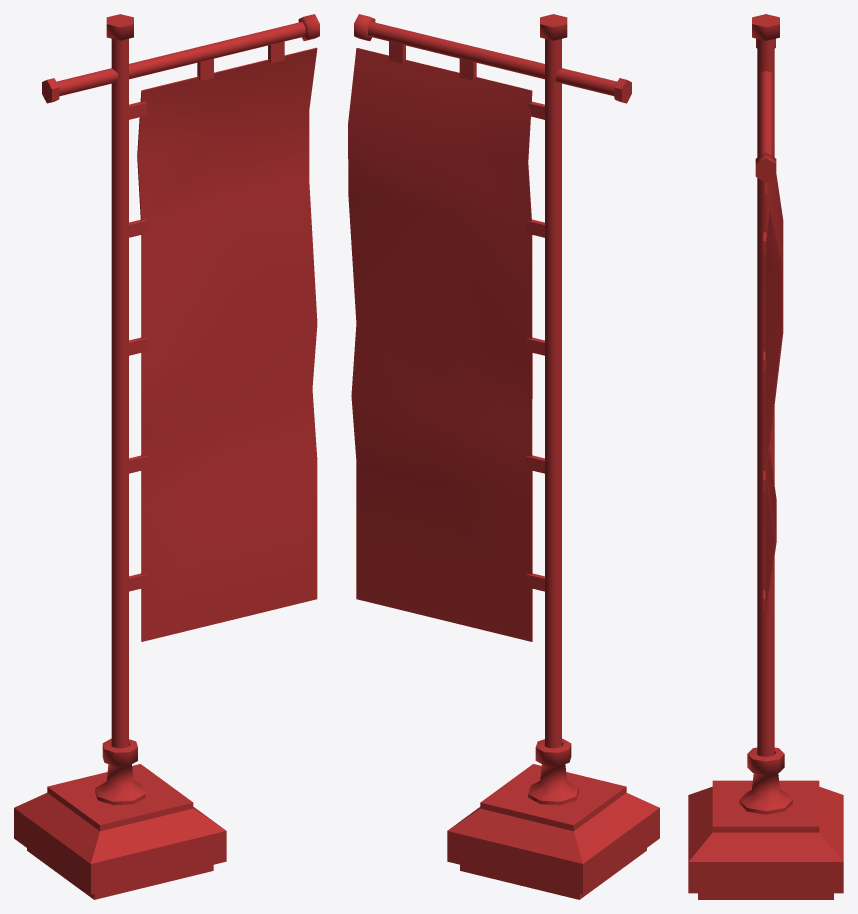
Rendered from SM_flag_shop_02.fbx.
3 renders of one model, left to right at view 1: azimuth 30°, elevation 25°; view 2: azimuth 150°, elevation 25°; view 3: azimuth 270°, elevation 25°, orthographic.
Visible parts, largest first — view 1: Box490; view 2: Box490; view 3: Box490.
Part boxes in pixels (x1=…): Box490: x1=14, y1=14, x2=319, y2=899; Box490: x1=348, y1=14, x2=659, y2=899; Box490: x1=688, y1=14, x2=843, y2=899.
Bounding box in the file's own units: 40.89 × 121 × 20.14.
